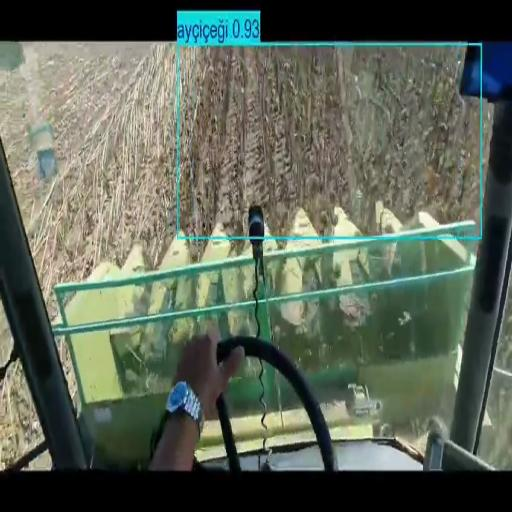ayc: (89, 45, 479, 258)
